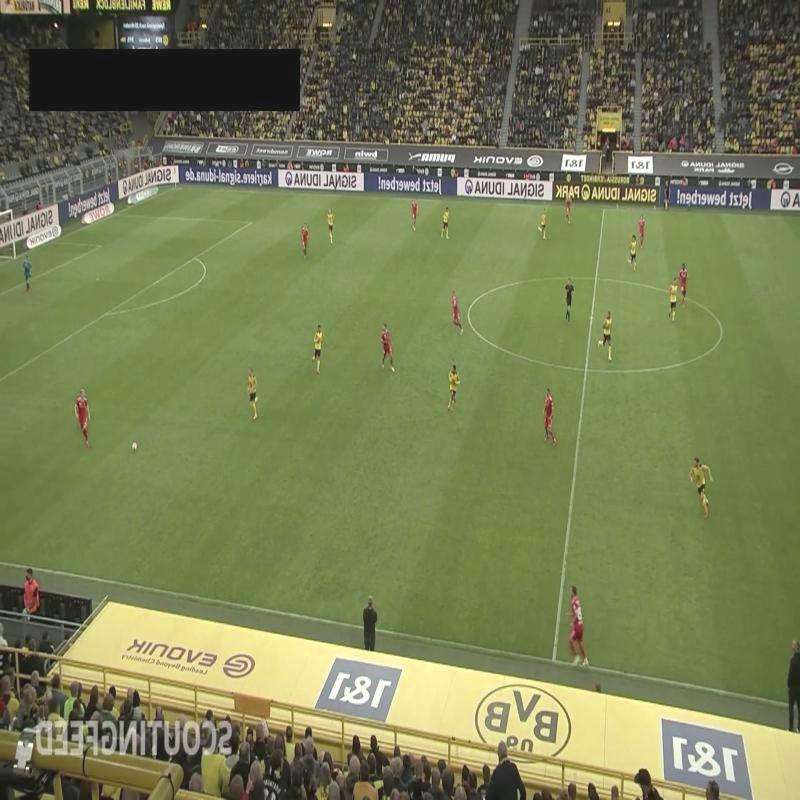1: (169, 182, 183, 196)
10: (188, 251, 202, 264)
11: (98, 305, 114, 321)
13: (596, 201, 612, 217)
14: (588, 270, 604, 287)
15: (578, 362, 594, 378)
16: (541, 650, 566, 672)
2: (108, 207, 123, 221)
3: (44, 235, 58, 248)
7: (93, 240, 108, 254)
9: (244, 216, 258, 230)
c: (712, 323, 732, 342), (460, 301, 478, 322)
